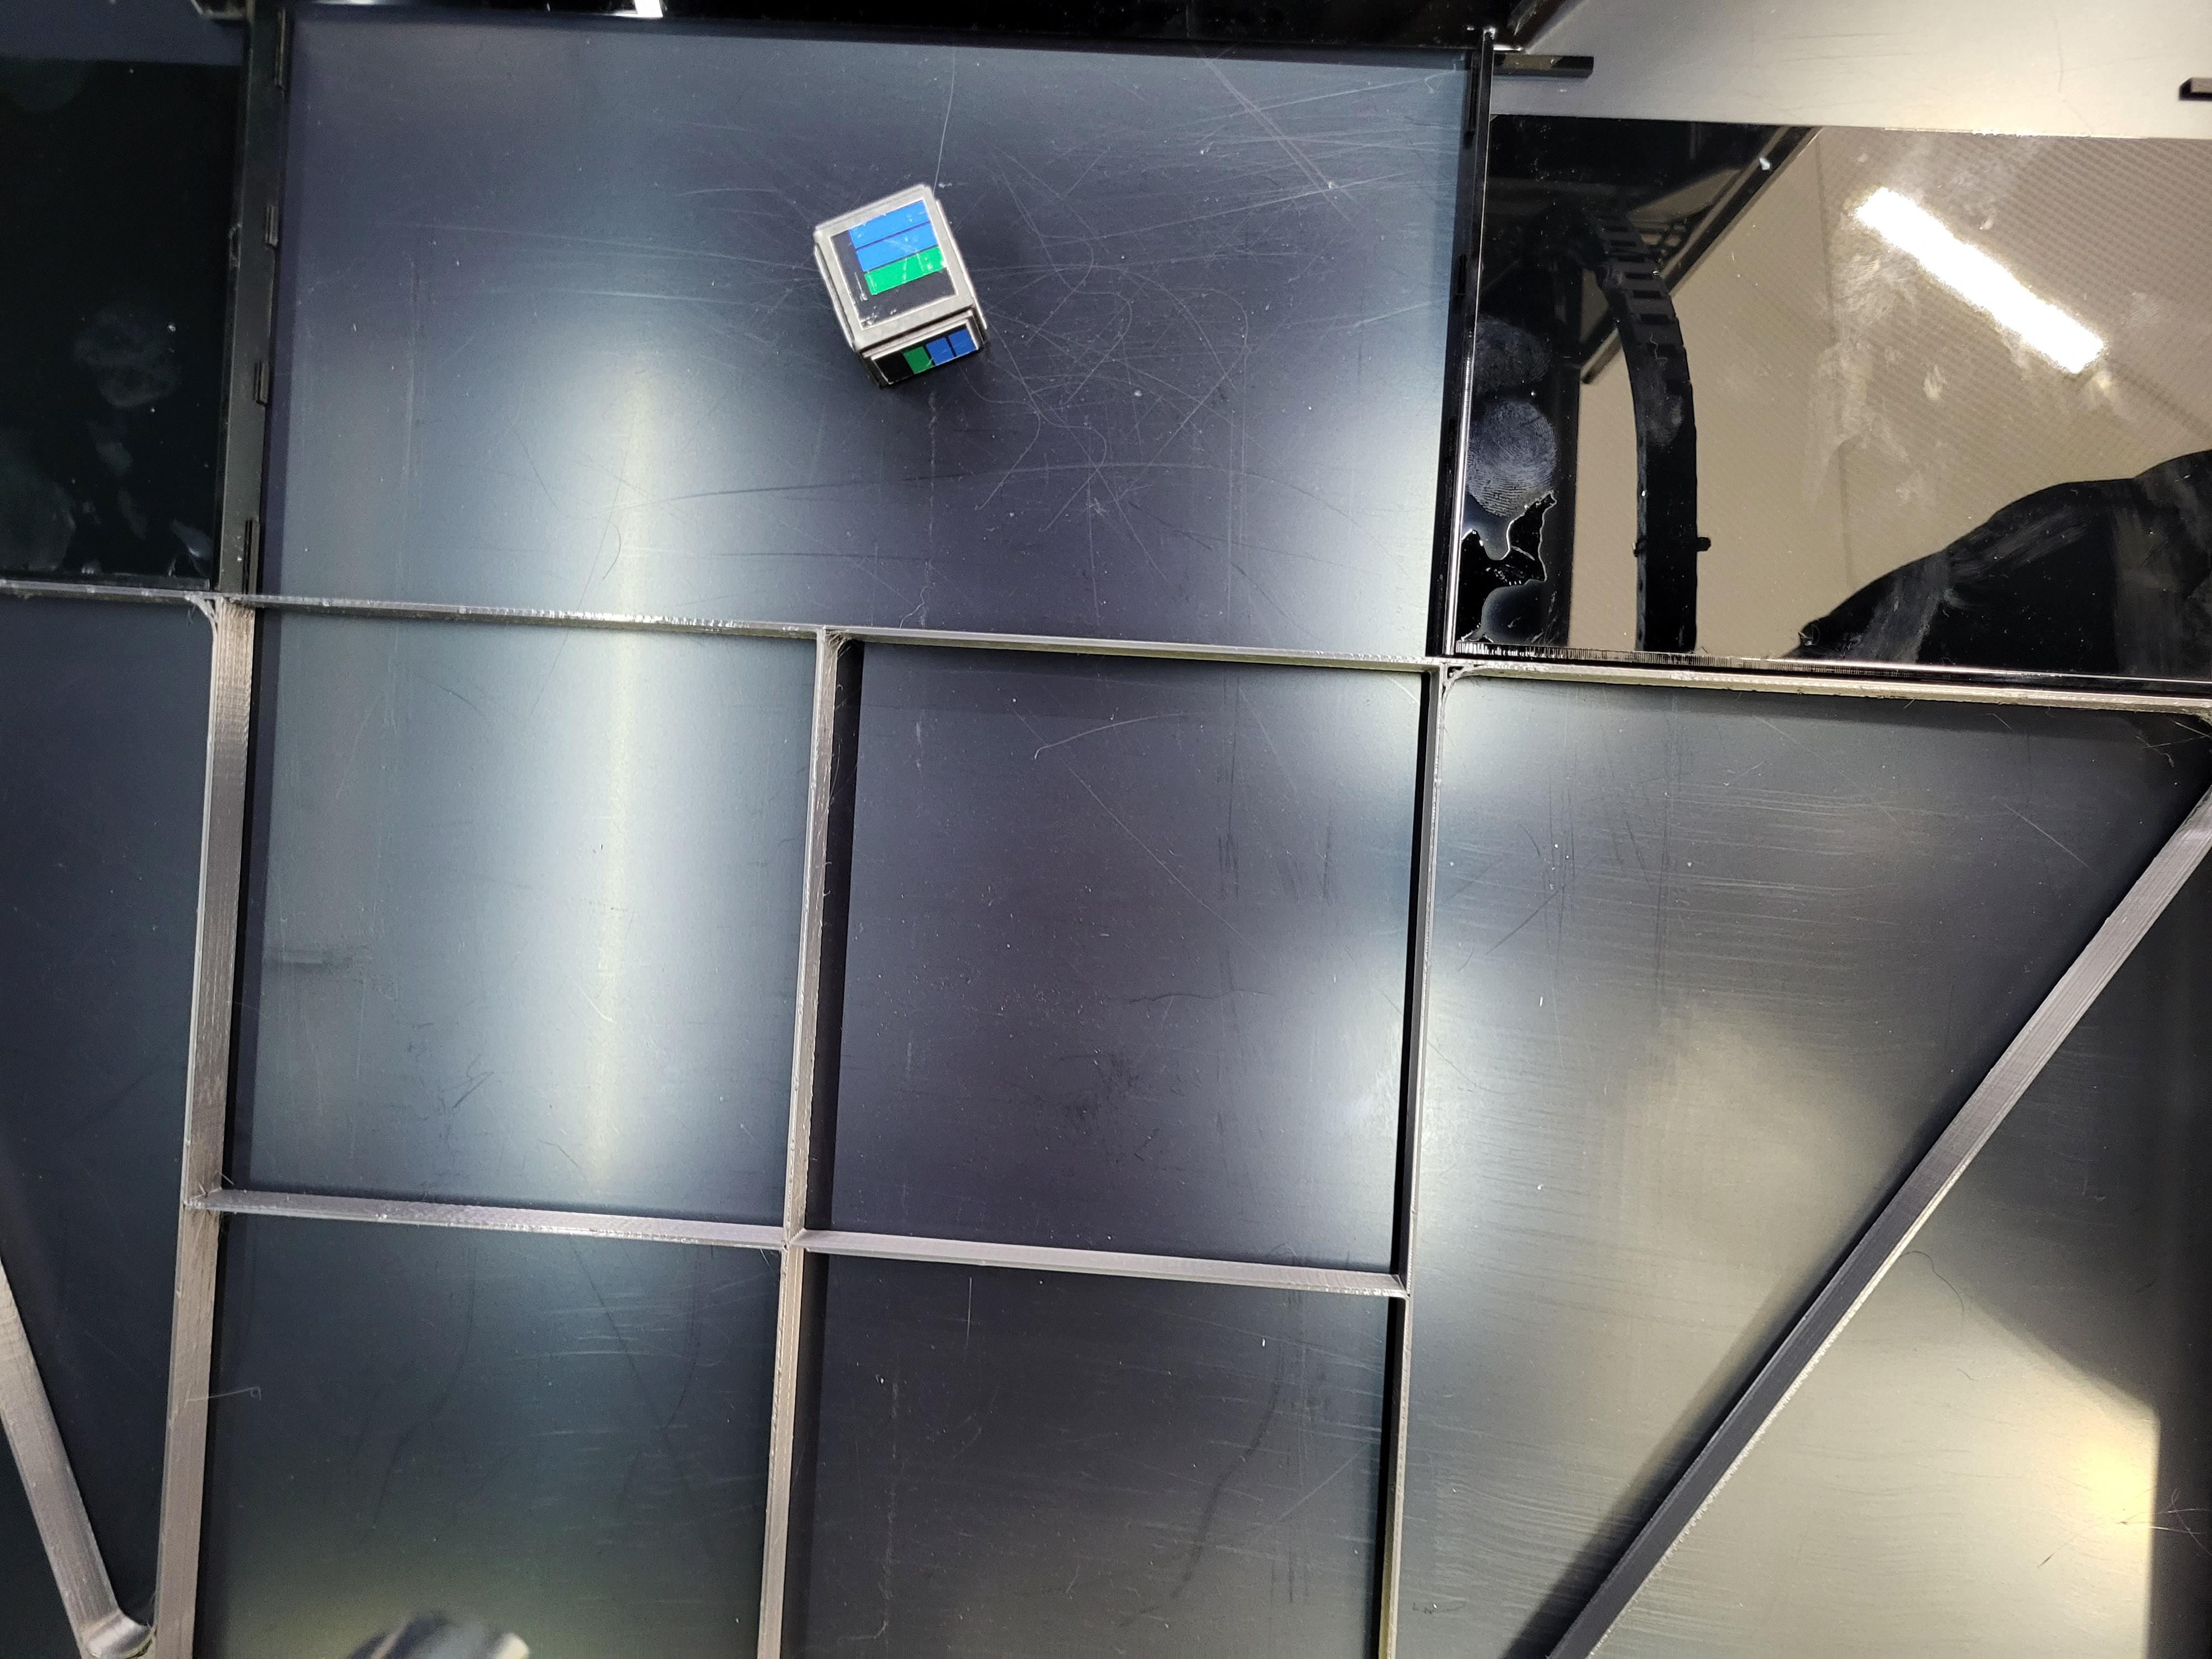Cube: (794, 157, 979, 376)
